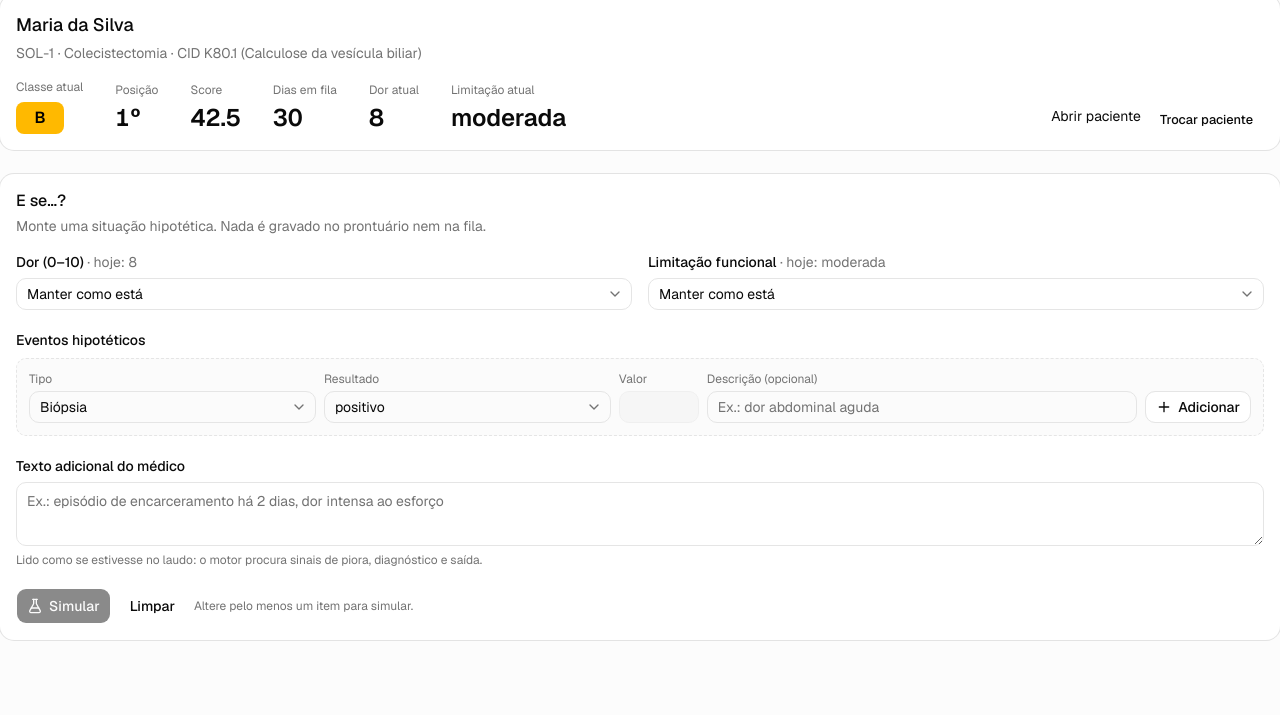
Test: SimuladorPaciente com paciente vindo da URL › simula com o texto digitado e deixa claro que nada foi salvo
This screenshot has width=1280, height=715.
Expected: the text "Maria da Silva" is shown, x1=16 y1=13 x2=134 y2=36
Type "  episódio de encarceramento  " into the text box with placeholder "episódio de encarceramento" at (640, 514), box x1=16 y1=482 x2=1264 y2=546
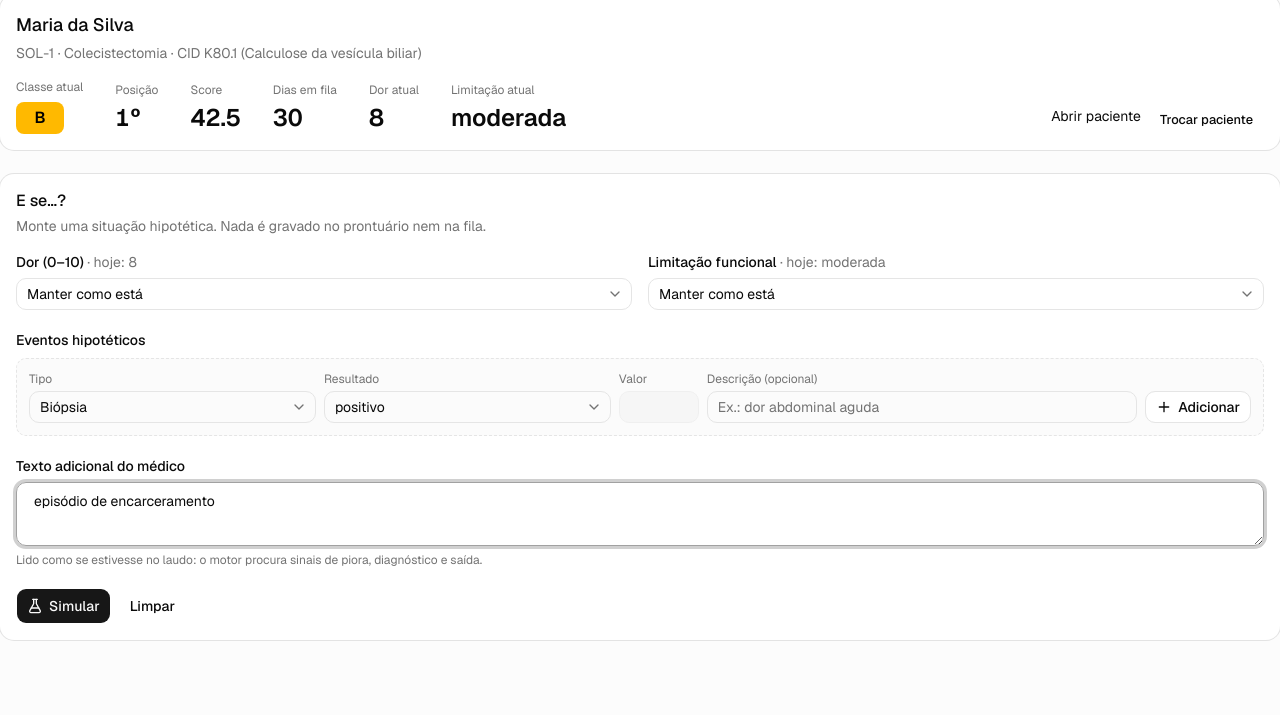
Click the button "Simular" at (63, 606), box x1=16 y1=588 x2=111 y2=624
(page scrolled)
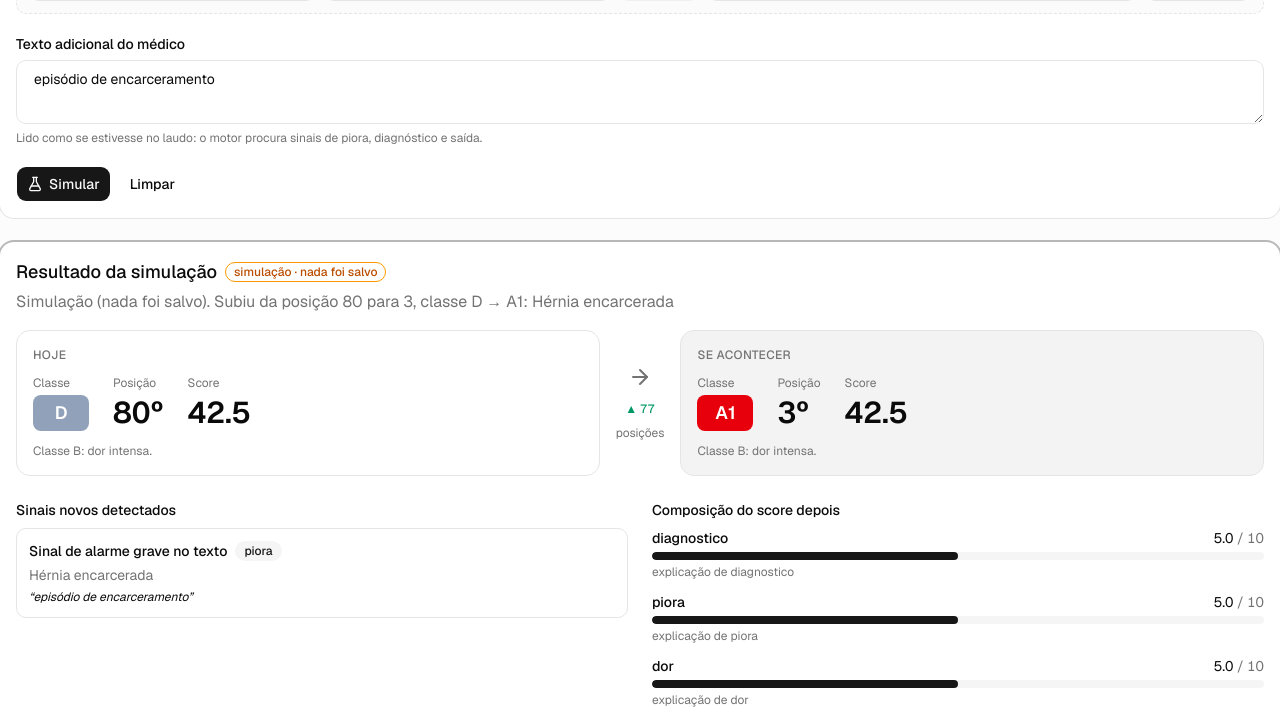
Result: the text "Resultado da simulação" is shown at x1=16 y1=260 x2=217 y2=283
Result: the text "simulação · nada foi salvo" is shown at x1=225 y1=262 x2=386 y2=282
Result: the text "Simulação (nada foi salvo). Subiu da posição 80 para 3" is shown at x1=16 y1=291 x2=674 y2=312
